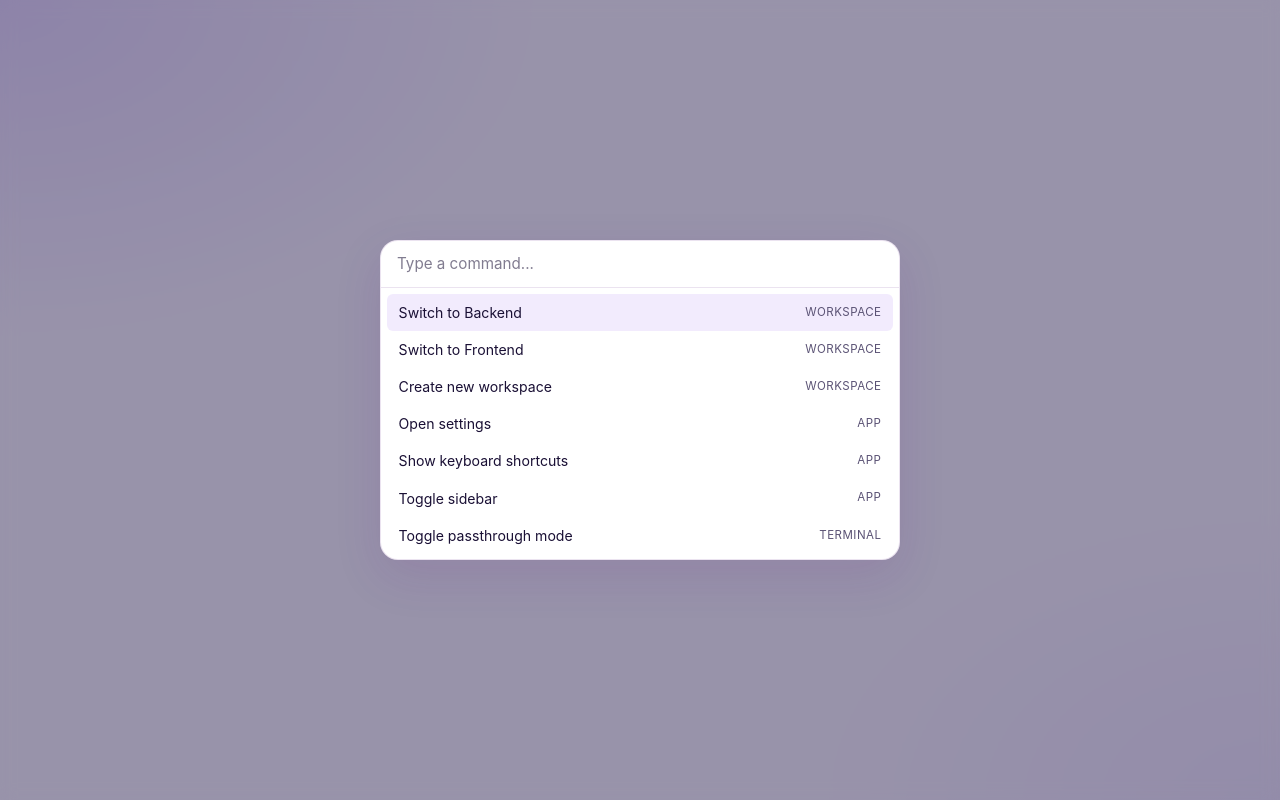
Test case: CommandPalette › shows "No commands match" for unmatched query
This screenshot has width=1280, height=800.
Type "xyznonexistent" into the field named "Search commands" at [640, 264], box [381,241,899,288]
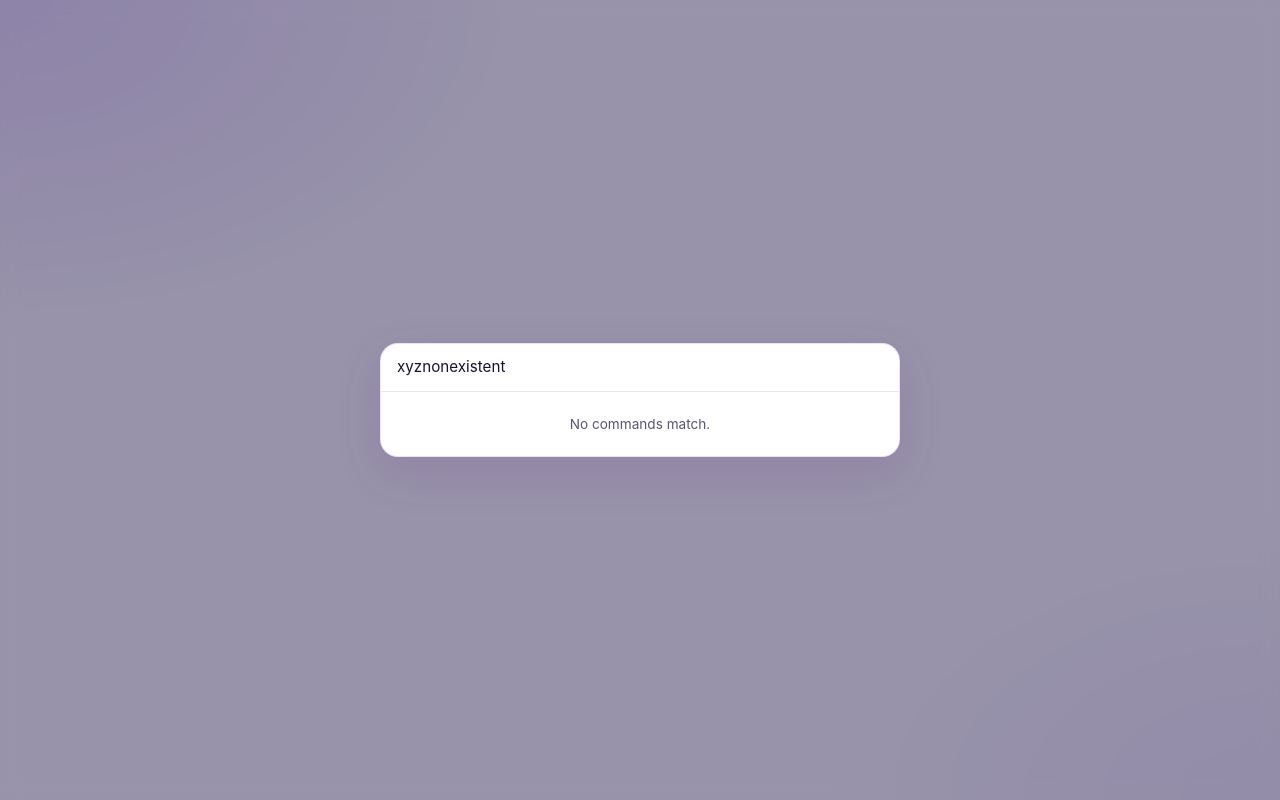
Now the list item "No commands match." is shown, box [570,416,710,432]
